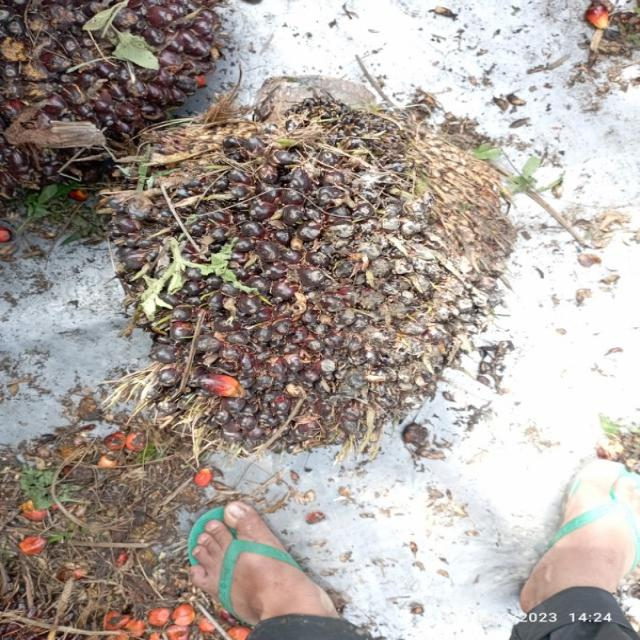fraksi 00: (105, 93, 517, 451)
